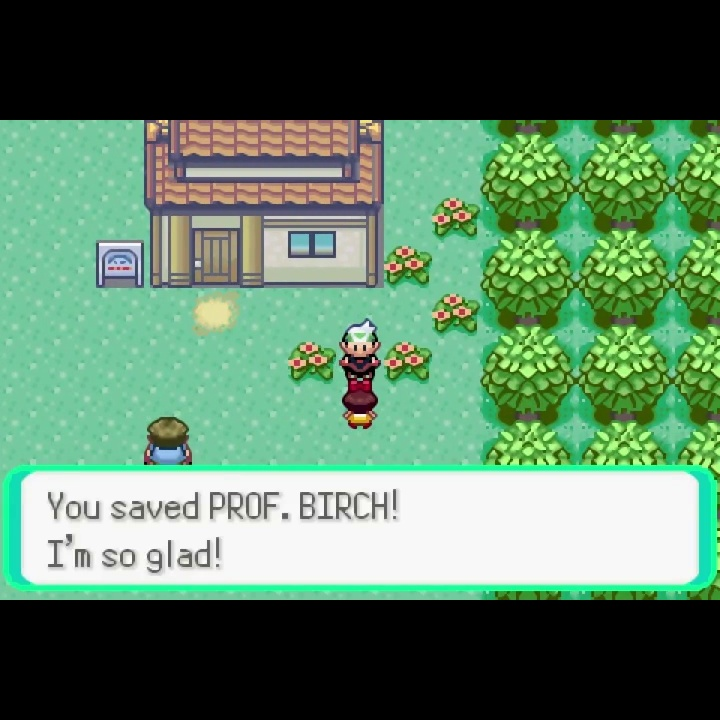house: (144, 120, 386, 290)
npc: (336, 316, 383, 381), (142, 415, 194, 466), (340, 378, 382, 432)
wall: (577, 224, 674, 326), (480, 225, 577, 325), (480, 323, 576, 420), (576, 323, 672, 419), (481, 131, 577, 227), (577, 131, 671, 226), (669, 131, 720, 227), (675, 224, 720, 326), (673, 323, 720, 420), (574, 419, 671, 465), (482, 419, 574, 465), (671, 420, 720, 467), (481, 120, 579, 142), (578, 121, 671, 142), (671, 119, 720, 143)
